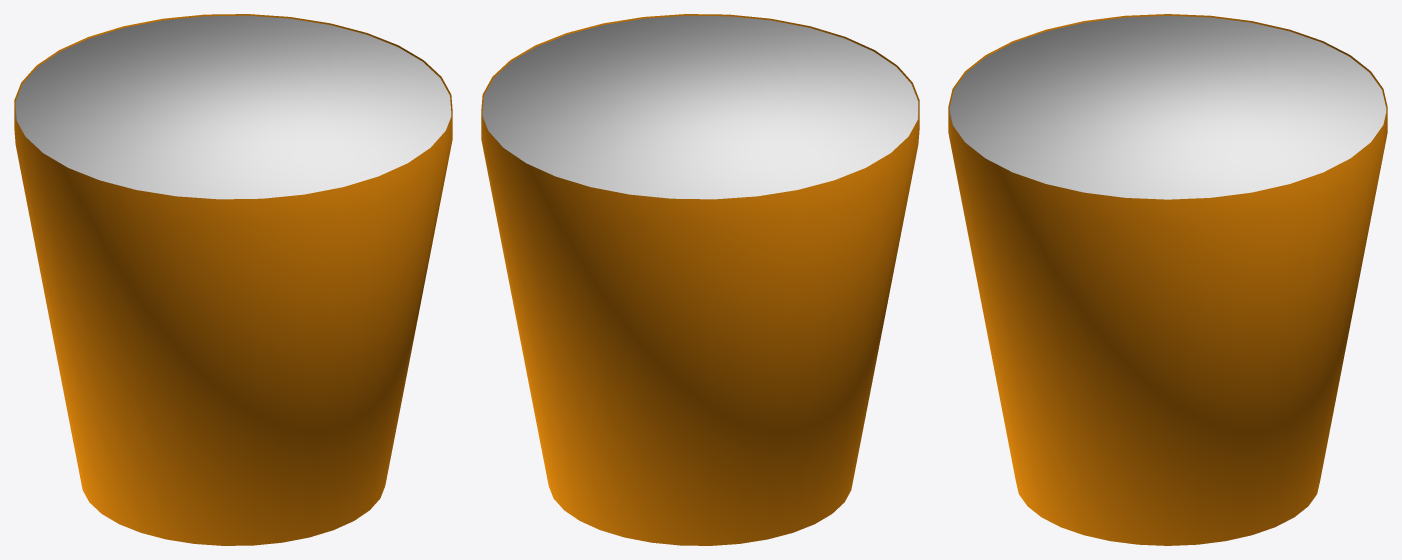
Rendered from basket.glb.
3 renders of one model, left to right at view 1: azimuth 30°, elevation 25°; view 2: azimuth 150°, elevation 25°; view 3: azimuth 270°, elevation 25°, orthographic.
Visible parts, largest first — view 1: Cylinder, basketcol; view 2: Cylinder, basketcol; view 3: Cylinder, basketcol.
Part boxes in pixels (x1,y1,x2,y2): Cylinder: [14, 14, 452, 545]; basketcol: [15, 15, 451, 199]; Cylinder: [481, 14, 919, 545]; basketcol: [482, 15, 918, 199]; Cylinder: [948, 14, 1387, 545]; basketcol: [949, 15, 1386, 199].
Size of the model in its own units: 2 by 1.89 by 2.
